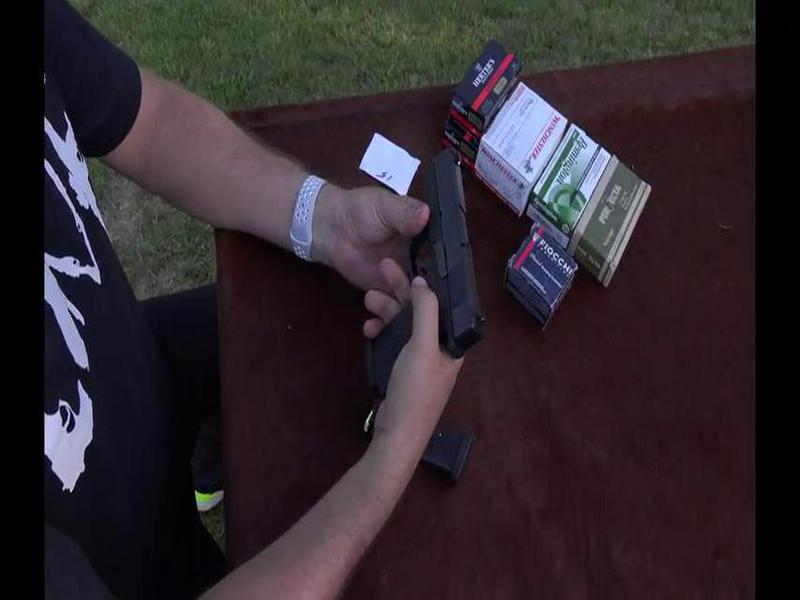Pistola: (338, 141, 507, 399)
